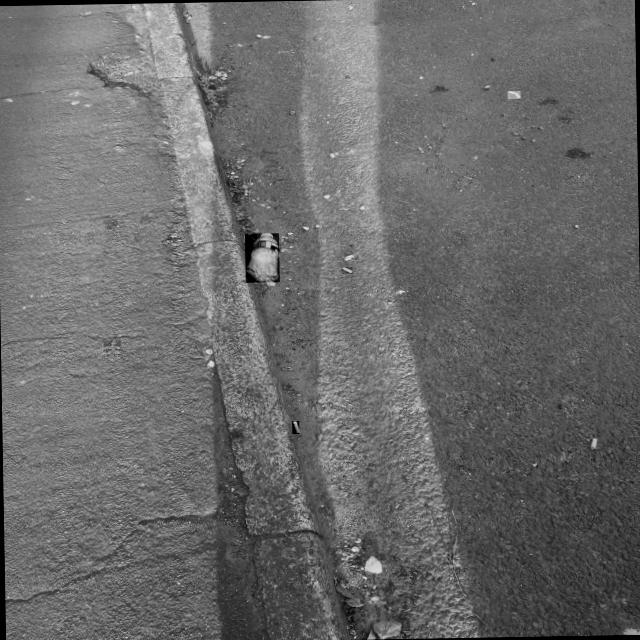Cigarette: (508, 91, 520, 99), (292, 422, 299, 433), (590, 438, 597, 449), (342, 267, 352, 273)
Clear plastic bottle: (245, 233, 279, 282)
